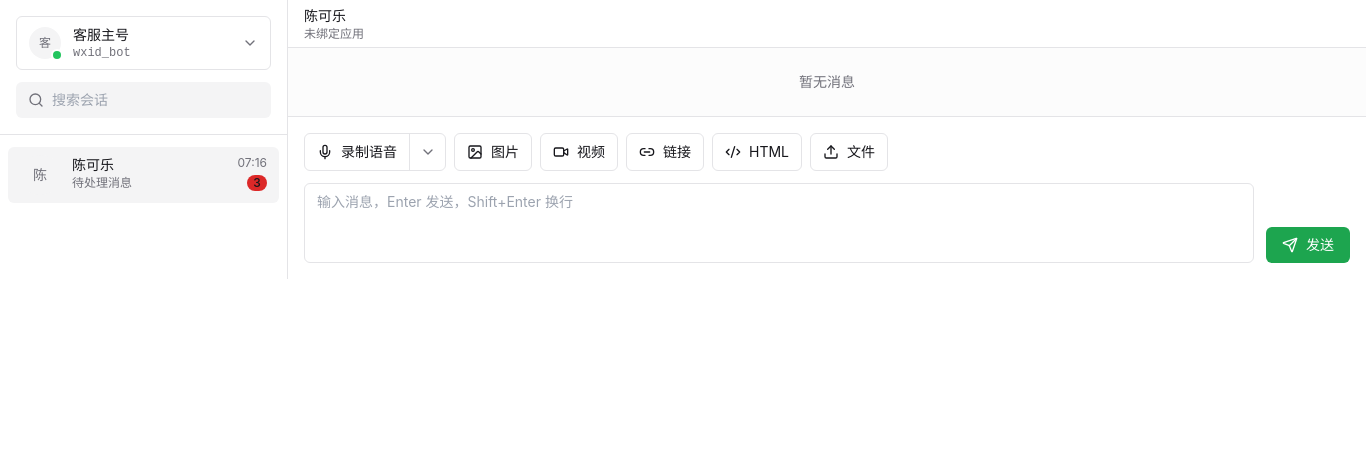
Test case: WorkbenchPage conversation list › 会话右键菜单展示置顶、隐藏、已读、编辑备注和会话管理五项
Right-click the button with aria-label "打开会话 陈可乐": (40, 175) [8, 147, 279, 203]
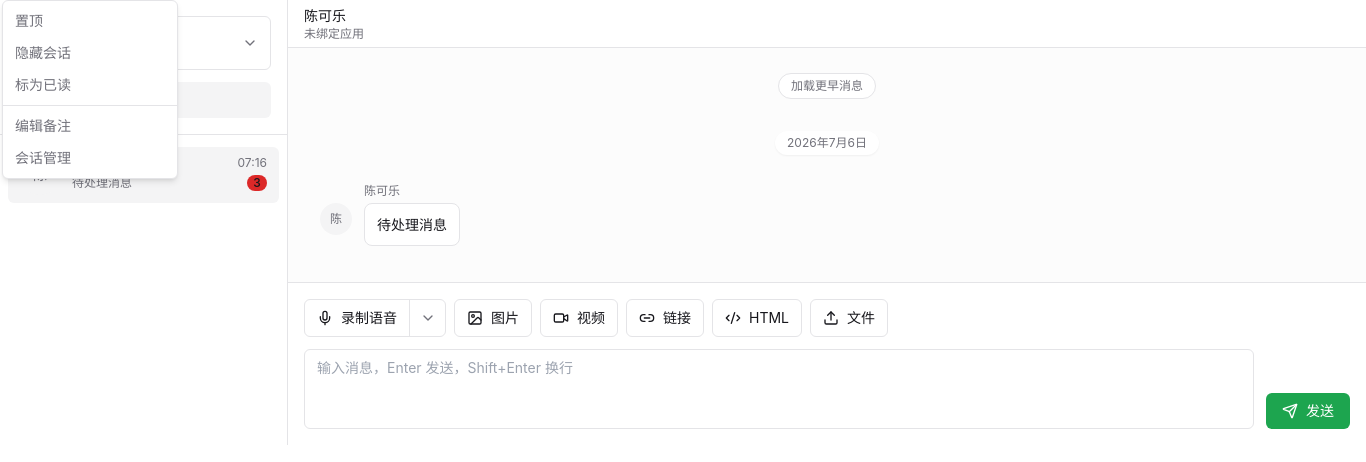
Now the menu item "置顶" is shown, box [15, 12, 43, 29]
Now the menu item "隐藏会话" is shown, box [15, 44, 71, 61]
Now the menu item "标为已读" is shown, box [15, 76, 71, 93]
